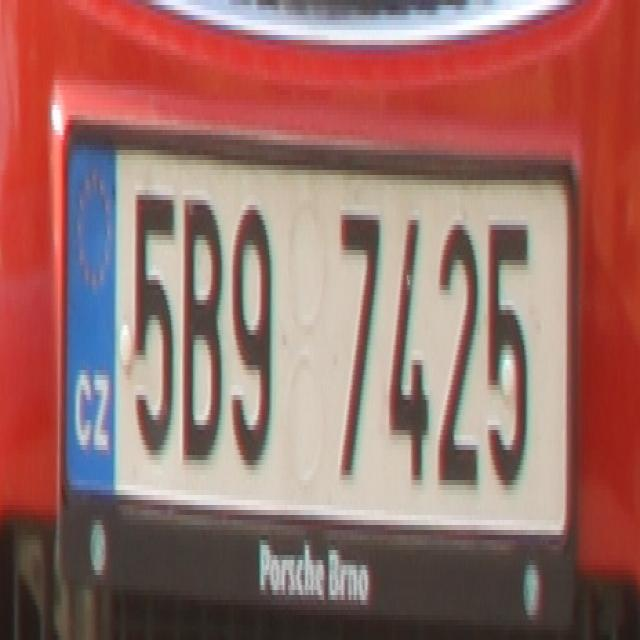2: (436, 225, 477, 490)
4: (389, 215, 432, 485)
5: (131, 190, 178, 450), (485, 220, 527, 480)
7: (340, 205, 380, 490)
9: (232, 205, 272, 465)
B: (181, 195, 219, 460)
